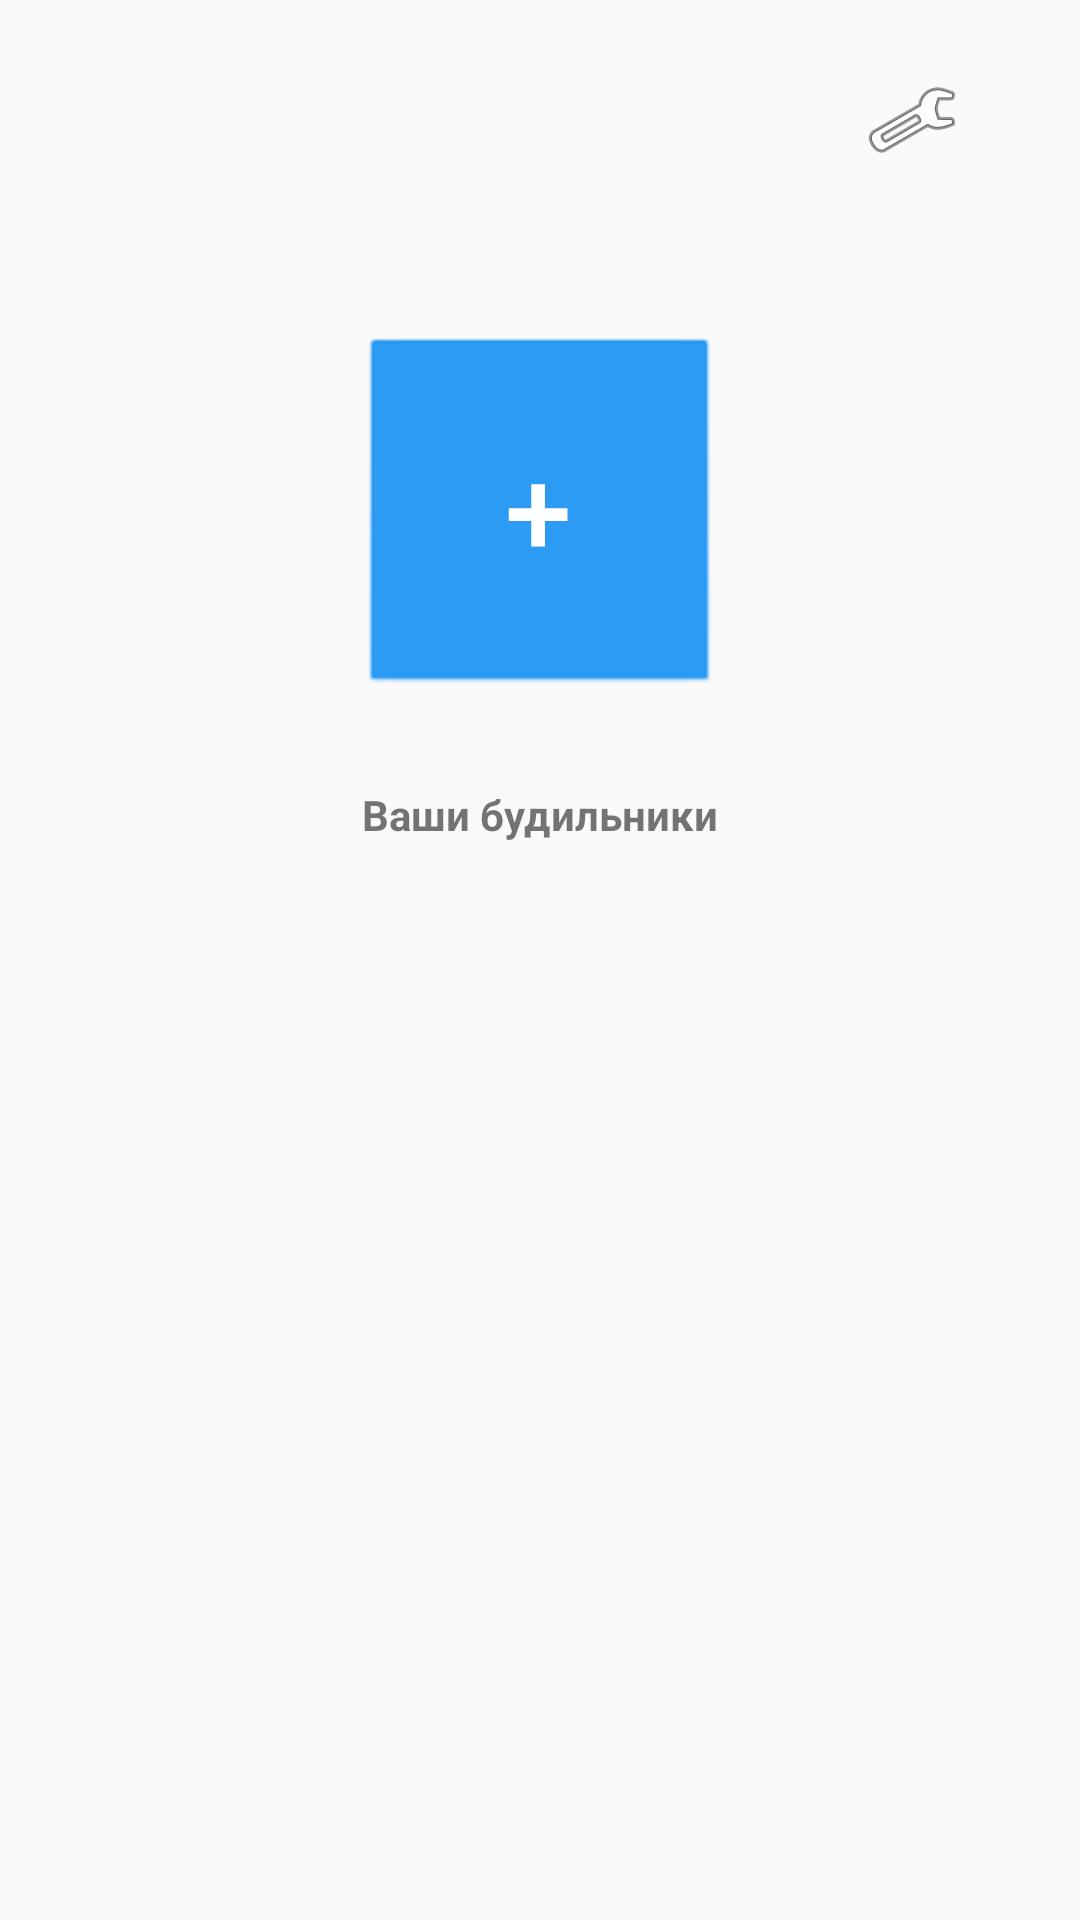

Screen size 1080x1920. Icon name, then its center in pixels as (x=x, y=y):
preferences: (x=912, y=120)
